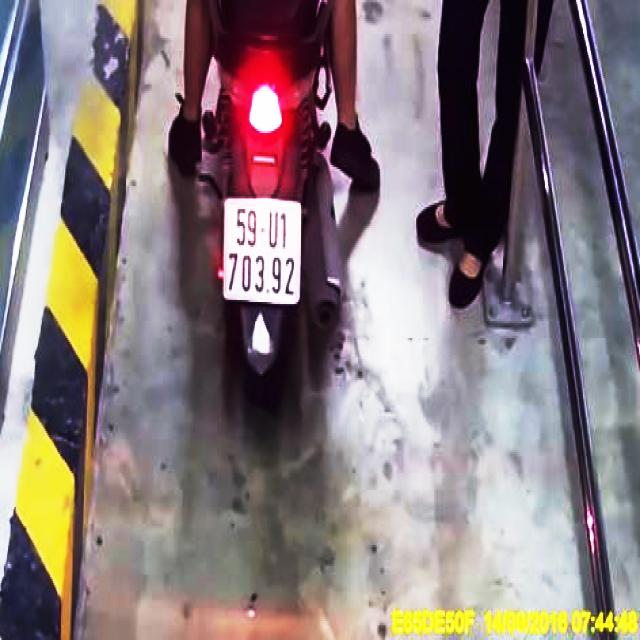license_plate: (224, 200, 300, 303)
